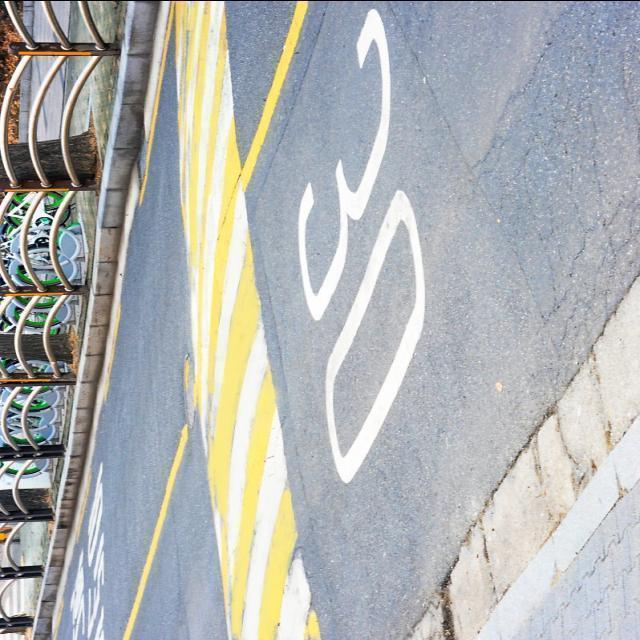Speed_Breaker: (166, 0, 324, 640), (176, 0, 319, 639)
